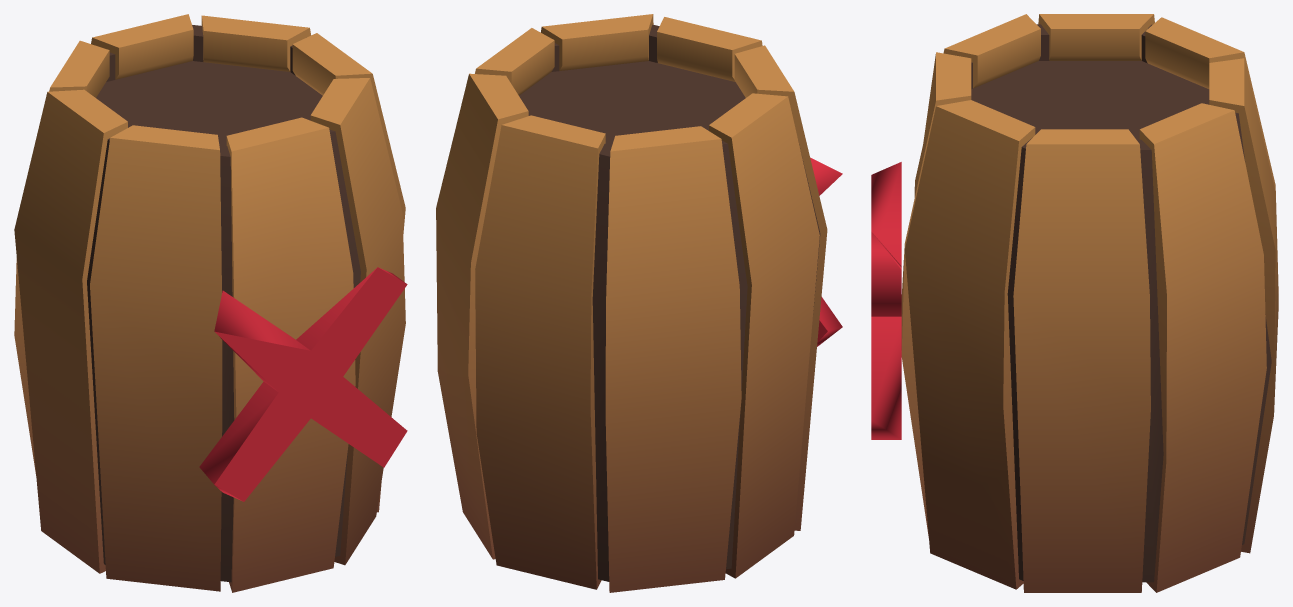
The picture shows the model from 3 angles, left to right: view 1: azimuth 30°, elevation 25°; view 2: azimuth 150°, elevation 25°; view 3: azimuth 270°, elevation 25°; orthographic projection.
Visible parts, largest first — view 1: LOD 3_4746937021995407784_ff341511bebd94b45835b85c6ba3315b; view 2: LOD 3_4746937021995407784_ff341511bebd94b45835b85c6ba3315b; view 3: LOD 3_4746937021995407784_ff341511bebd94b45835b85c6ba3315b.
Boxes of the visible parts, <box> form: LOD 3_4746937021995407784_ff341511bebd94b45835b85c6ba3315b: <box>14,14,407,592</box>; LOD 3_4746937021995407784_ff341511bebd94b45835b85c6ba3315b: <box>436,14,842,592</box>; LOD 3_4746937021995407784_ff341511bebd94b45835b85c6ba3315b: <box>871,14,1278,592</box>.
Bounding box in the file's own units: 0.7558 × 0.995 × 0.8237.
